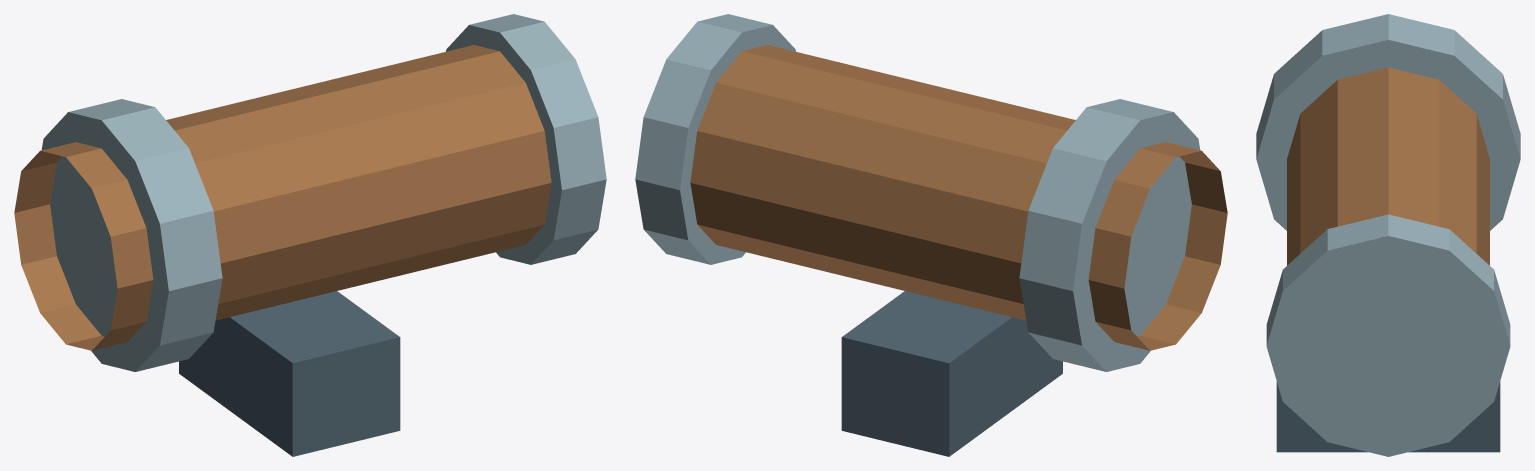
Rendered from pipe_end.glb.
3 views of the same model, side by side, from view 1: azimuth 30°, elevation 25°; view 2: azimuth 150°, elevation 25°; view 3: azimuth 270°, elevation 25° (orthographic).
Visible parts, largest first — view 1: EndPipe, Coupling, Mount, Cap; view 2: EndPipe, Coupling, Mount, Cap; view 3: Cap, EndPipe, Coupling, Mount.
Part boxes in pixels (x1,y1,x2,y2): EndPipe: [14, 45, 551, 350]; Coupling: [41, 99, 222, 371]; Mount: [179, 291, 400, 456]; Cap: [446, 14, 606, 264]; EndPipe: [690, 45, 1227, 350]; Coupling: [1019, 99, 1200, 371]; Mount: [841, 291, 1062, 456]; Cap: [635, 14, 795, 264]; Cap: [1266, 214, 1510, 456]; EndPipe: [1287, 67, 1489, 265]; Coupling: [1256, 14, 1520, 230]; Mount: [1276, 381, 1500, 452].
Size of the model in its own units: 1.07 by 0.7 by 0.52.
